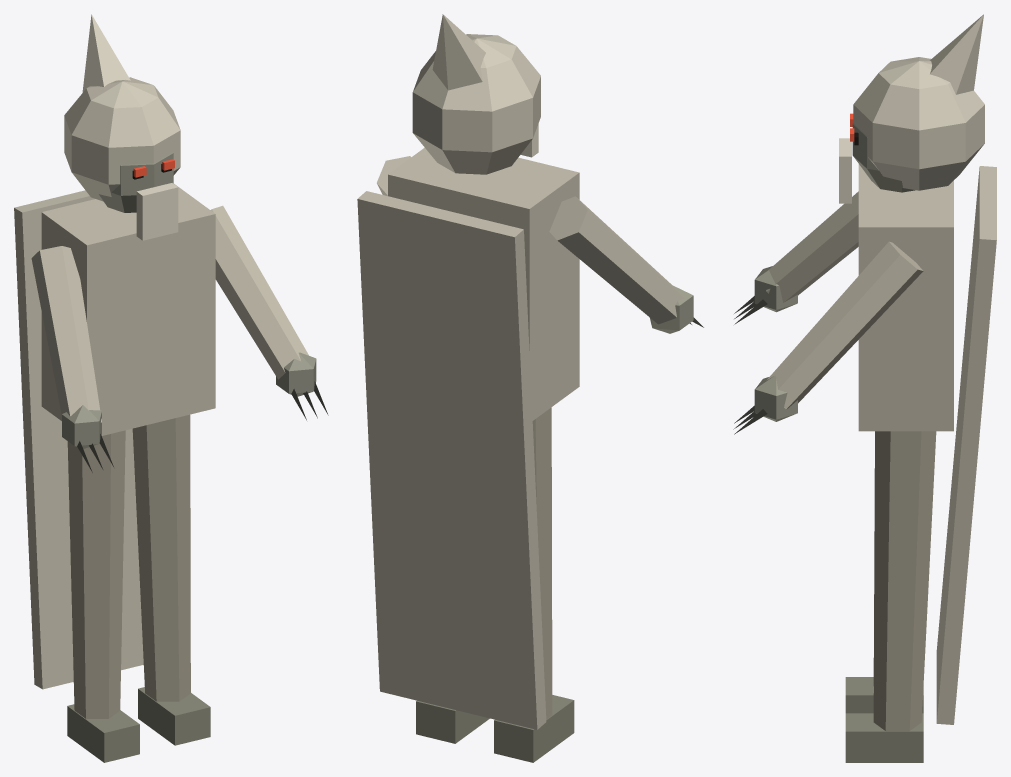
Rendered from nachzehrer.glb.
3 views of the same model, side by side, from view 1: azimuth 30°, elevation 25°; view 2: azimuth 150°, elevation 25°; view 3: azimuth 270°, elevation 25° (orthographic). The views are drawn at different scales.
Bounding box in the file's own units: 0.6948 × 1.84 × 0.6095.
Materials: 1 (1 with a texture image).
